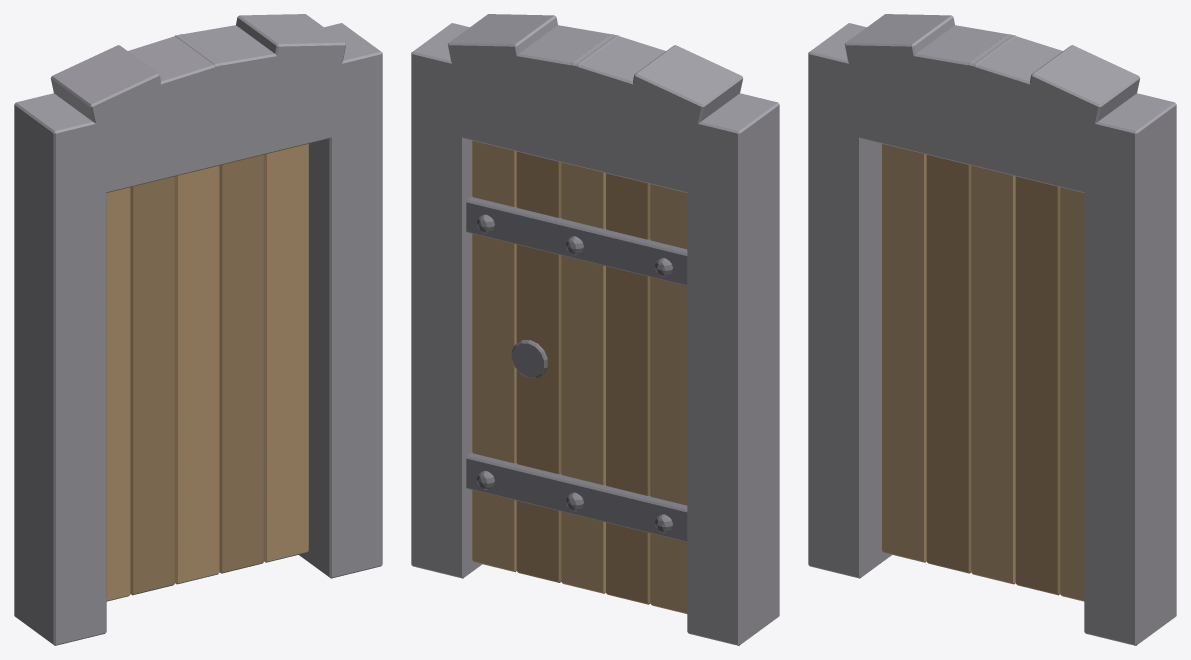
File: dgn_door_wood.glb
3 views of the same model, side by side, from view 1: azimuth 30°, elevation 25°; view 2: azimuth 150°, elevation 25°; view 3: azimuth 330°, elevation 25° (orthographic).
Visible parts, largest first — view 1: dgn_door_wood; view 2: dgn_door_wood; view 3: dgn_door_wood.
Part boxes in pixels (x1,y1,x2,y2): dgn_door_wood: [14, 14, 382, 645]; dgn_door_wood: [411, 14, 779, 645]; dgn_door_wood: [808, 14, 1176, 645].
Size of the model in its own units: 1.48 by 2.35 by 0.349.
